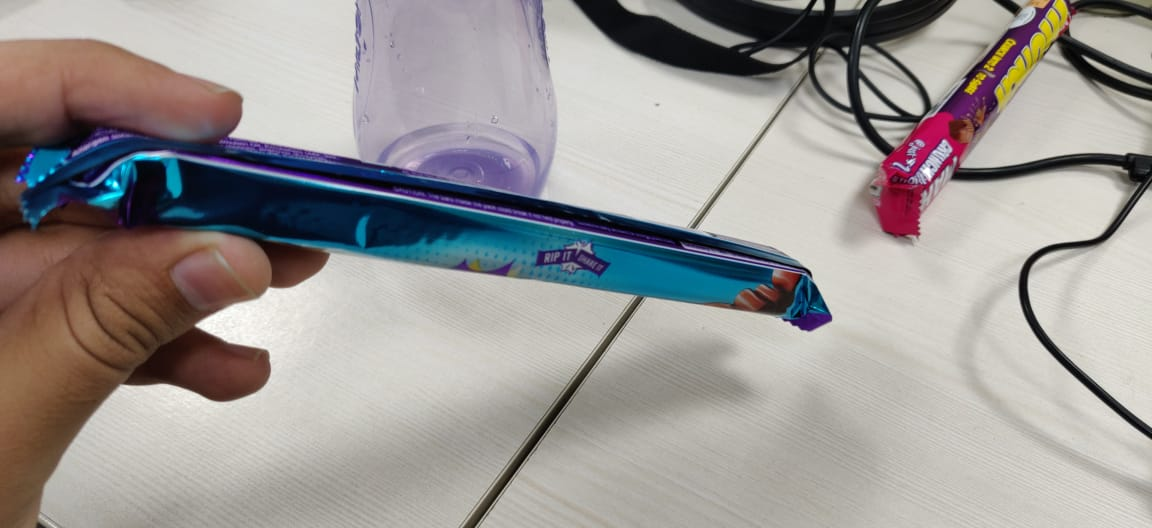perk: (15, 91, 846, 355)
